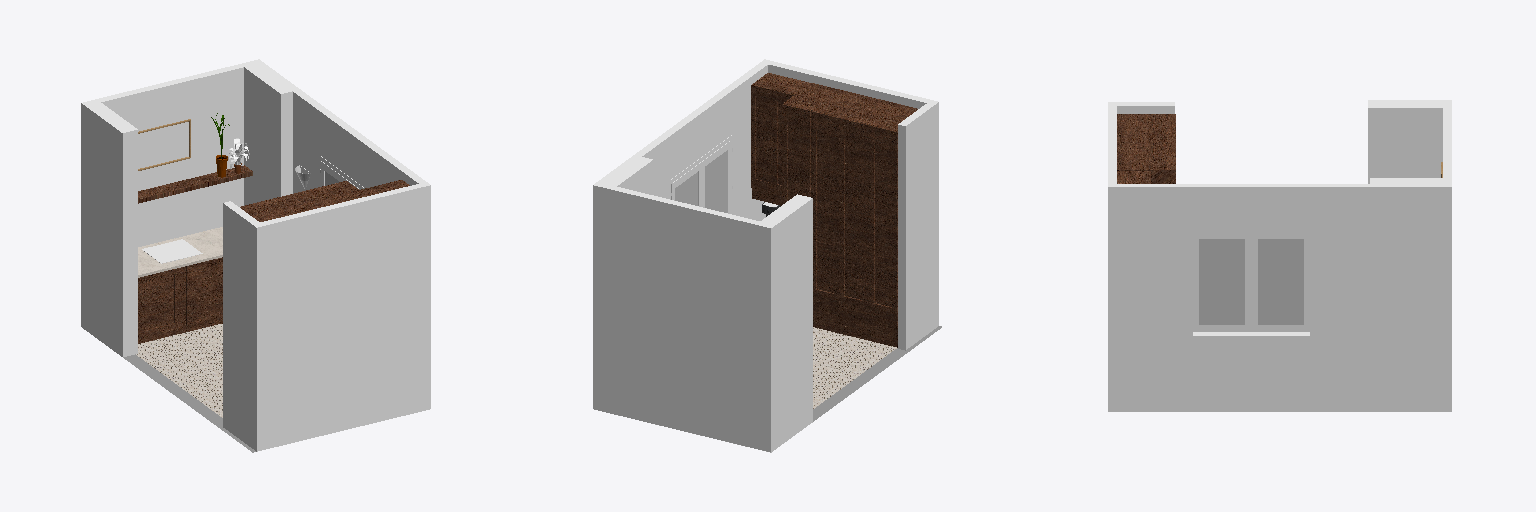
3 renders of one model, left to right at view 1: azimuth 30°, elevation 25°; view 2: azimuth 150°, elevation 25°; view 3: azimuth 270°, elevation 25°, orthographic.
Parts seen in each view (by area): view 1: wall_4_22, wall_2_11, wall_1_4, wall_5_28, wall_3_17, wall_6_35, room_7_38, 89, 88, wall_1_5, 87, Photo_Cube_Material_LakeMoraine_170 (+8 smaller); view 2: wall_2_10, wall_1_4, wall_5_28, 76, wall_3_17, 75, 81, 80, room_7_38, 83, 82, ground_1 (+8 smaller); view 3: wall_3_16, wall_1_5, sweethome3d_window_pane_on_hinge_1_46, sweethome3d_window_pane_on_hinge_2_51, frame_39, 81, sweethome3d_opening_on_hinge_1_45, sweethome3d_opening_on_hinge_2_50, 76, wall_3_19.
Part boxes in pixels (x1,y1,x2,y2): wall_4_22: (257, 185, 430, 451); wall_2_11: (101, 67, 243, 246); wall_1_4: (81, 103, 129, 356); wall_5_28: (223, 203, 256, 451); wall_3_17: (293, 92, 418, 193); wall_6_35: (244, 67, 286, 205); room_7_38: (136, 324, 222, 417); 89: (138, 263, 222, 343); 88: (138, 257, 222, 337); wall_1_5: (130, 130, 137, 355); 87: (138, 229, 222, 277); Photo_Cube_Material_LakeMoraine_170: (138, 123, 187, 167); wall_2_10: (593, 185, 770, 451); wall_1_4: (771, 198, 812, 452); wall_5_28: (902, 102, 938, 350); 76: (840, 97, 917, 347); wall_3_17: (642, 65, 767, 220); 75: (839, 117, 897, 327); 81: (783, 83, 867, 333); 80: (782, 104, 839, 312); room_7_38: (813, 327, 896, 408); 83: (752, 73, 809, 205); 82: (751, 85, 793, 194); ground_1: (618, 326, 941, 452); wall_3_16: (1108, 187, 1451, 411); wall_1_5: (1368, 108, 1442, 183); sweethome3d_window_pane_on_hinge_1_46: (1258, 239, 1303, 324); sweethome3d_window_pane_on_hinge_2_51: (1199, 239, 1244, 324); frame_39: (1187, 231, 1315, 340); 81: (1117, 142, 1173, 183); sweethome3d_opening_on_hinge_1_45: (1251, 236, 1309, 331); sweethome3d_opening_on_hinge_2_50: (1193, 236, 1250, 331); 76: (1117, 114, 1173, 141); wall_3_19: (1113, 184, 1446, 185).
Bounding box in the file's own units: 229 × 275 × 383.
Materials: 41 (4 with a texture image).